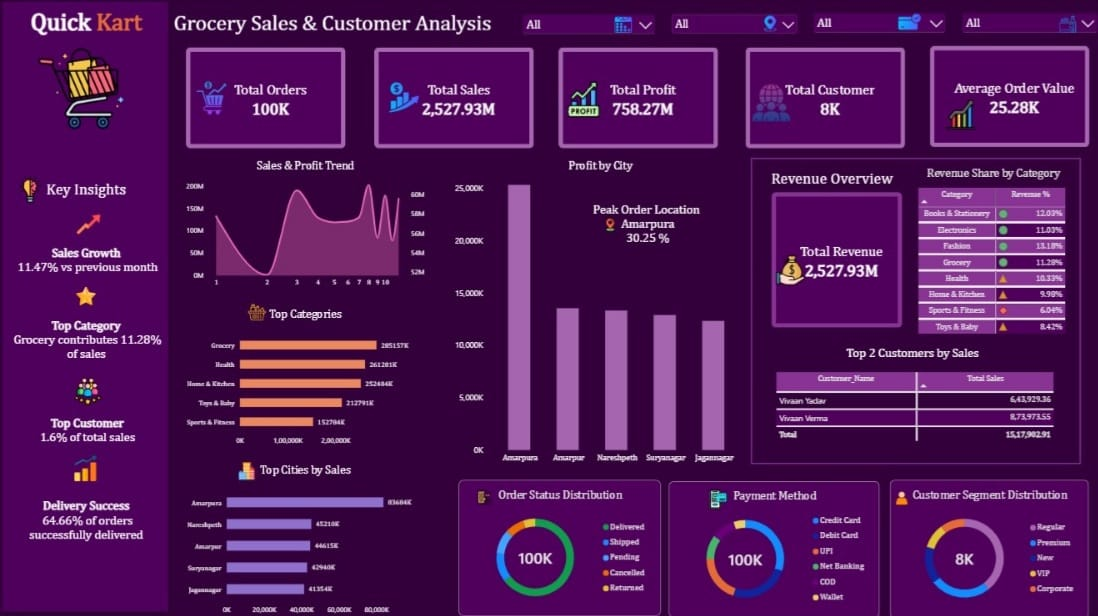

What the dashboard file says about the page in this screenshot:
{"tool":"powerbi","page":{"name":"Page 1","canvas":[1920,1080],"ordinal":0},"visuals":[{"type":"shape","box":[0,0,306.5,1078.8],"z":0},{"type":"textbox","box":[33.3,21.4,242.4,52.3],"z":1000},{"type":"textbox","box":[306.5,26.1,556.1,47.5],"z":2000},{"type":"slicer","fields":{"Values":["Dim_Date.Date"]},"box":[909.7,26,239.1,62.4],"z":3000},{"type":"slicer","fields":{"Values":["Dim_City.City"]},"box":[1169.6,26,228.1,57],"z":4000},{"type":"slicer","fields":{"Values":["Dim_Payment.Payment_Method"]},"box":[1416.6,23.4,239.1,62.4],"z":5000},{"type":"slicer","fields":{"Values":["Dim_Product.Category"]},"box":[1676.5,23.4,244.3,62.4],"z":6000},{"type":"image","box":[33.8,85.8,223.5,148.2],"z":7000},{"type":"cardVisual","fields":{"Data":["Fact_Orders.Total Orders"]},"box":[327.5,88.4,278.1,176.7],"z":8000},{"type":"cardVisual","fields":{"Data":["Fact_Orders.Total Sales"]},"box":[655,88.4,278.1,176.7],"z":9000},{"type":"cardVisual","fields":{"Data":["Fact_Orders.Total Profit"]},"box":[977.3,88.4,278.1,176.7],"z":10000},{"type":"cardVisual","fields":{"Data":["Dim_Customer.Total Customers"]},"box":[1302.2,88.4,278.1,176.7],"z":11000},{"type":"cardVisual","fields":{"Data":["Fact_Orders.Average Order Value"]},"box":[1621.9,85.8,278.1,176.7],"z":12000},{"type":"image","box":[327.5,148.2,88.4,57.2],"z":13000},{"type":"image","box":[673.2,145.6,70.2,59.8],"z":14000},{"type":"image","box":[977.3,148.2,88.4,62.4],"z":15000},{"type":"image","box":[1302.2,148.2,88.4,72.8],"z":16000},{"type":"image","box":[1063.1,31.2,54.6,33.8],"z":17000},{"type":"image","box":[1325.6,31.2,39,31.2],"z":18000},{"type":"image","box":[1554.3,20.8,67.6,44.2],"z":19000},{"type":"image","box":[1842.8,33.8,39,28.6],"z":20000},{"type":"image","box":[1645.3,179.3,65,54.6],"z":21000},{"type":"lineClusteredColumnComboChart","title":"Sales & Profit Trend","fields":{"Category":["Dim_Date.Month"],"Y":["Fact_Orders.Total Sales"],"Y2":["Fact_Orders.Total Profit"]},"box":[327.5,283.3,415.9,223.5],"z":22000},{"type":"clusteredBarChart","title":"Top Categories","fields":{"Category":["Dim_Product.Category"],"Y":["Fact_Orders.Total Sales"]},"box":[327.5,540.6,415.9,244.3],"z":23000},{"type":"clusteredBarChart","title":"Top Cities by Sales","fields":{"Y":["Fact_Orders.Total Sales"],"Category":["Dim_City.City"]},"box":[327.5,813.6,415.9,267.7],"z":24000},{"type":"clusteredColumnChart","title":"Profit by City","fields":{"Y":["Fact_Orders.Total Profit"],"Category":["Dim_City.City"]},"box":[795.4,283.3,506.8,530.2],"z":25000},{"type":"donutChart","title":"Order Status Distribution","fields":{"Category":["Fact_Orders.Order_Status"],"Y":["Fact_Orders.Total Orders"]},"box":[803.2,842.1,350.9,236.5],"z":26000},{"type":"donutChart","title":"Payment Method","fields":{"Category":["Dim_Payment.Payment_Method"],"Y":["Fact_Orders.Total Orders"]},"box":[1169.6,844.7,366.5,236.5],"z":27000},{"type":"donutChart","title":"Customer Segment Distribution","fields":{"Category":["Dim_Customer.Customer_Segment"],"Y":["Dim_Customer.Total Customers"]},"box":[1554.3,842.1,345.7,239.1],"z":28000},{"type":"shape","box":[1312.6,280.7,574.4,532.8],"z":29000},{"type":"cardVisual","fields":{"Data":["Fact_Orders.Total Revenue"]},"box":[1346.4,340.5,228.7,236.5],"z":30000},{"type":"image","box":[1354.2,444.5,52,62.4],"z":31000},{"type":"pivotTable","title":"Revenue Share by Category","fields":{"Rows":["Dim_Product.Category"],"Values":["Fact_Orders.Revenue %"]},"box":[1588.1,283.3,293.7,332.7],"z":32000},{"type":"textbox","box":[1315.2,301.5,278.1,36.4],"z":33000},{"type":"pivotTable","fields":{"Rows":["Dim_Customer.Customer_Name"],"Values":["Fact_Orders.Total Sales"]},"box":[1341.2,639.4,540.6,150.8],"z":34000},{"type":"textbox","box":[1442.6,608.2,301.5,26],"z":36000},{"type":"image","box":[1226.8,857.7,57.2,33.8],"z":37000},{"type":"image","box":[834.3,857.7,28.6,26],"z":38000},{"type":"textbox","box":[982.5,358.7,301.5,117],"z":39000},{"type":"image","box":[1039.7,384.7,52,23.4],"z":40000},{"type":"image","box":[1562.1,852.5,26,39],"z":41000},{"type":"image","box":[415.9,811,36.4,31.2],"z":42000},{"type":"image","box":[434.1,519.8,33.8,57.2],"z":43000},{"type":"textbox","box":[15.6,319.7,275.5,675.8],"z":44000},{"type":"image","box":[33.8,311.9,46.8,46.8],"z":45000},{"type":"image","box":[130,374.3,54.6,41.6],"z":46000},{"type":"image","box":[132.6,504.2,41.6,33.8],"z":47000},{"type":"image","box":[130,795.4,44.2,49.4],"z":48000},{"type":"image","box":[127.4,662.8,57.2,46.8],"z":49000}]}

Visuals, with their boxes in screenshot pixels (x1, y1, x2, y2), scaled from the page's 1920x1080 canvas onto the 1098x616 screenshot:
shape: <bbox>0, 0, 175, 615</bbox>
textbox: <bbox>19, 12, 158, 42</bbox>
textbox: <bbox>175, 15, 493, 42</bbox>
slicer - Dim_Date.Date: <bbox>520, 15, 657, 50</bbox>
slicer - Dim_City.City: <bbox>669, 15, 799, 47</bbox>
slicer - Dim_Payment.Payment_Method: <bbox>810, 13, 947, 49</bbox>
slicer - Dim_Product.Category: <bbox>959, 13, 1097, 49</bbox>
image: <bbox>19, 49, 147, 133</bbox>
cardVisual - Fact_Orders.Total Orders: <bbox>187, 50, 346, 151</bbox>
cardVisual - Fact_Orders.Total Sales: <bbox>375, 50, 534, 151</bbox>
cardVisual - Fact_Orders.Total Profit: <bbox>559, 50, 718, 151</bbox>
cardVisual - Dim_Customer.Total Customers: <bbox>745, 50, 904, 151</bbox>
cardVisual - Fact_Orders.Average Order Value: <bbox>928, 49, 1087, 150</bbox>
image: <bbox>187, 85, 238, 117</bbox>
image: <bbox>385, 83, 425, 117</bbox>
image: <bbox>559, 85, 609, 120</bbox>
image: <bbox>745, 85, 795, 126</bbox>
image: <bbox>608, 18, 639, 37</bbox>
image: <bbox>758, 18, 780, 36</bbox>
image: <bbox>889, 12, 928, 37</bbox>
image: <bbox>1054, 19, 1076, 36</bbox>
image: <bbox>941, 102, 978, 133</bbox>
"Sales & Profit Trend" lineClusteredColumnComboChart: <bbox>187, 162, 425, 289</bbox>
"Top Categories" clusteredBarChart: <bbox>187, 308, 425, 448</bbox>
"Top Cities by Sales" clusteredBarChart: <bbox>187, 464, 425, 615</bbox>
"Profit by City" clusteredColumnChart: <bbox>455, 162, 745, 464</bbox>
"Order Status Distribution" donutChart: <bbox>459, 480, 660, 615</bbox>
"Payment Method" donutChart: <bbox>669, 482, 878, 615</bbox>
"Customer Segment Distribution" donutChart: <bbox>889, 480, 1087, 615</bbox>
shape: <bbox>751, 160, 1079, 464</bbox>
cardVisual - Fact_Orders.Total Revenue: <bbox>770, 194, 901, 329</bbox>
image: <bbox>774, 254, 804, 289</bbox>
"Revenue Share by Category" pivotTable: <bbox>908, 162, 1076, 351</bbox>
textbox: <bbox>752, 172, 911, 193</bbox>
pivotTable - Dim_Customer.Customer_Name x Fact_Orders.Total Sales: <bbox>767, 365, 1076, 451</bbox>
textbox: <bbox>825, 347, 997, 362</bbox>
image: <bbox>702, 489, 734, 508</bbox>
image: <bbox>477, 489, 493, 504</bbox>
textbox: <bbox>562, 205, 734, 271</bbox>
image: <bbox>595, 219, 624, 233</bbox>
image: <bbox>893, 486, 908, 508</bbox>
image: <bbox>238, 463, 259, 480</bbox>
image: <bbox>248, 296, 268, 329</bbox>
textbox: <bbox>9, 182, 166, 568</bbox>
image: <bbox>19, 178, 46, 205</bbox>
image: <bbox>74, 213, 106, 237</bbox>
image: <bbox>76, 288, 100, 307</bbox>
image: <bbox>74, 454, 100, 482</bbox>
image: <bbox>73, 378, 106, 405</bbox>
